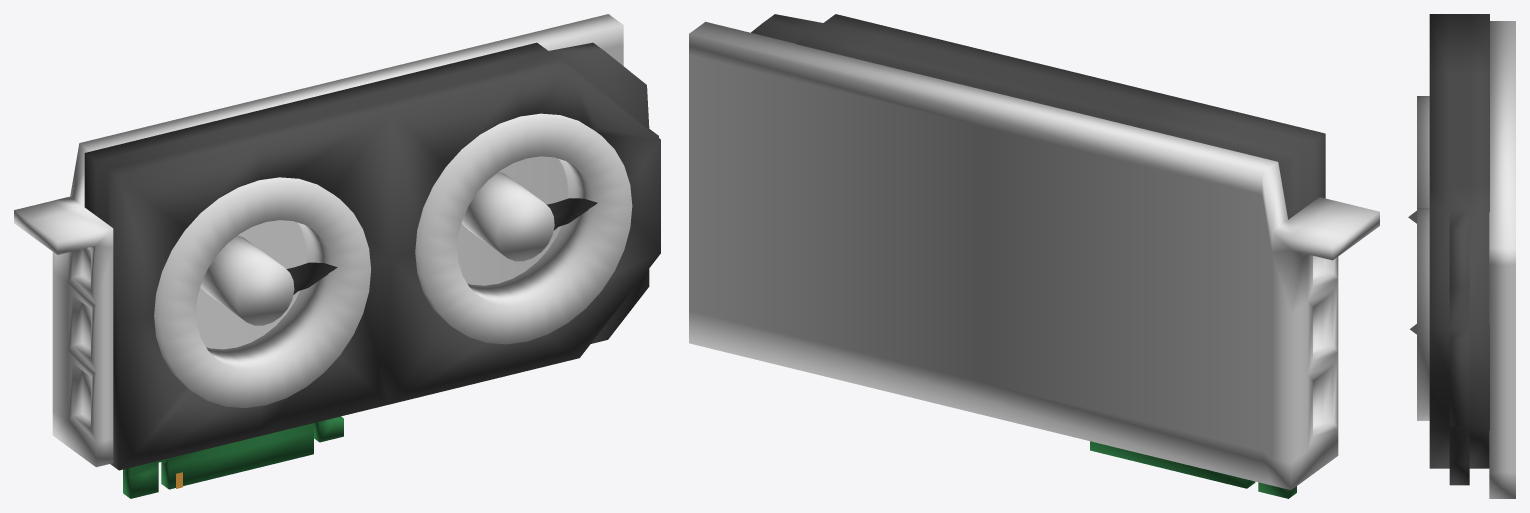
3 renders of one model, left to right at view 1: azimuth 30°, elevation 25°; view 2: azimuth 150°, elevation 25°; view 3: azimuth 270°, elevation 25°, orthographic. The views are drawn at different scales.
Visible parts, largest first — view 1: VGA, Plane.011, Cylinder.001, Cylinder, Cube.006, Cylinder.002, Cylinder.003, Plane.009, Plane.010; view 2: Plane.011, VGA, Cube.006; view 3: VGA, Plane.011, Cylinder.001, Cylinder.
Boxes of the visible parts, bbox=[...] form: VGA: bbox=[84, 42, 660, 470]; Plane.011: bbox=[14, 14, 623, 467]; Cylinder.001: bbox=[415, 113, 632, 344]; Cylinder: bbox=[154, 177, 371, 407]; Cube.006: bbox=[123, 416, 343, 498]; Cylinder.002: bbox=[200, 235, 294, 325]; Cylinder.003: bbox=[461, 171, 554, 261]; Plane.009: bbox=[286, 262, 337, 294]; Plane.010: bbox=[547, 198, 597, 230]; Plane.011: bbox=[689, 21, 1379, 489]; VGA: bbox=[751, 14, 1325, 219]; Cube.006: bbox=[1090, 441, 1296, 498]; VGA: bbox=[1429, 14, 1489, 485]; Plane.011: bbox=[1489, 21, 1515, 498]; Cylinder.001: bbox=[1417, 208, 1429, 420]; Cylinder: bbox=[1417, 96, 1429, 207].
Bounding box in the file's own units: 3.54 × 1.85 × 0.6204.
